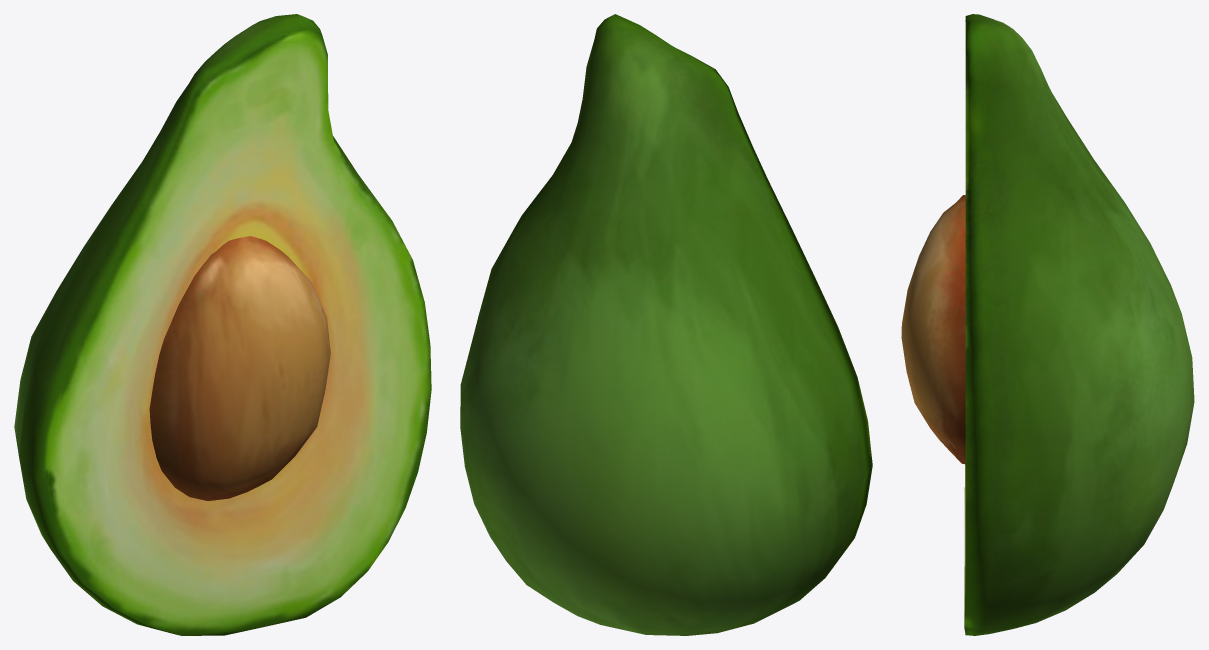
The model's file is avocado.glb.
3 views of the same model, side by side, from view 1: azimuth 30°, elevation 25°; view 2: azimuth 150°, elevation 25°; view 3: azimuth 270°, elevation 25° (orthographic). The views are drawn at different scales.
Visible parts, largest first — view 1: Avocado; view 2: Avocado; view 3: Avocado.
Boxes of the visible parts, x1,y1,x2,y2 form: Avocado: (14, 14, 431, 635); Avocado: (460, 14, 872, 635); Avocado: (901, 14, 1194, 635).
Size of the model in its own units: 0.0426 by 0.0629 by 0.0276.
1 material, 1 textured.
